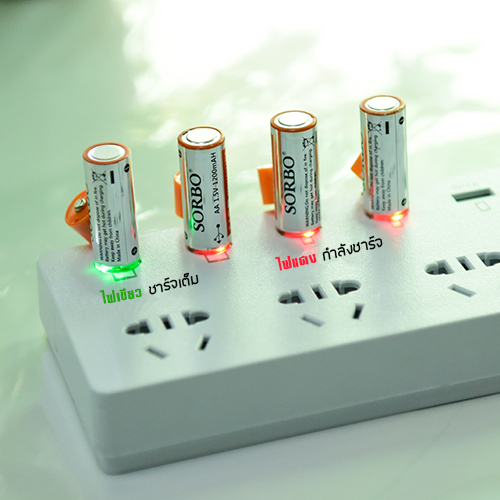Battery: (81, 140, 143, 270), (176, 123, 233, 256), (268, 108, 324, 239), (358, 93, 411, 222)
